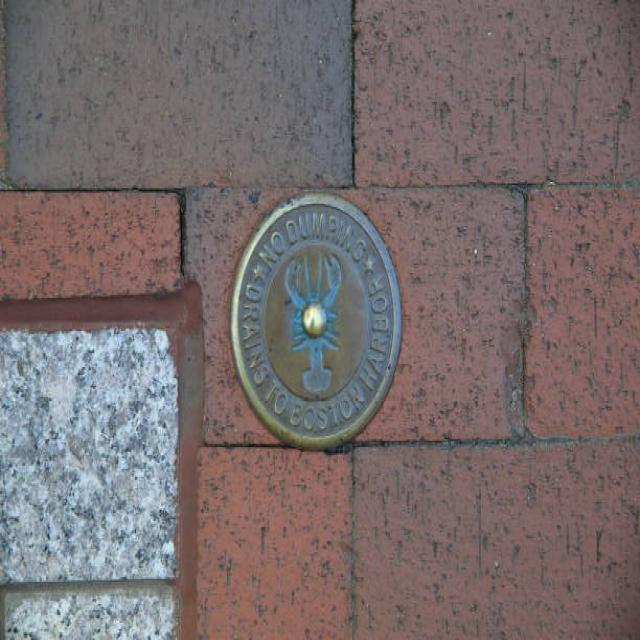Good: (216, 182, 408, 454)
